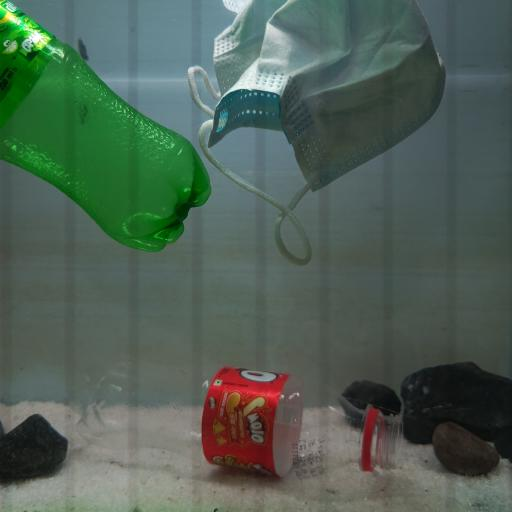mask: (185, 1, 446, 268)
plastic_bottle: (0, 0, 213, 254), (73, 362, 405, 480)
